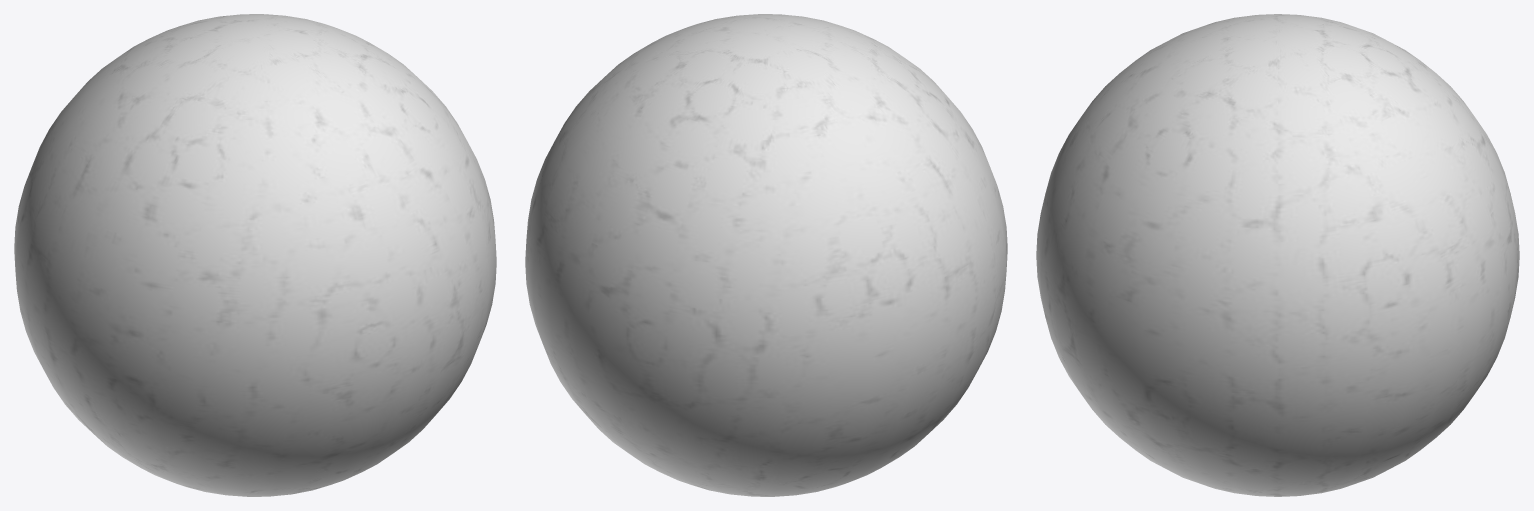
File: golfBall.glb
3 renders of one model, left to right at view 1: azimuth 30°, elevation 25°; view 2: azimuth 150°, elevation 25°; view 3: azimuth 270°, elevation 25°, orthographic.
Parts seen in each view (by area): view 1: golfBall; view 2: golfBall; view 3: golfBall.
Boxes of the visible parts, bbox=[...] form: golfBall: bbox=[14, 14, 496, 496]; golfBall: bbox=[525, 14, 1007, 496]; golfBall: bbox=[1036, 14, 1519, 496].
Bounding box in the file's own units: 0.483 × 0.483 × 0.483.
Materials: 1 (1 with a texture image).
